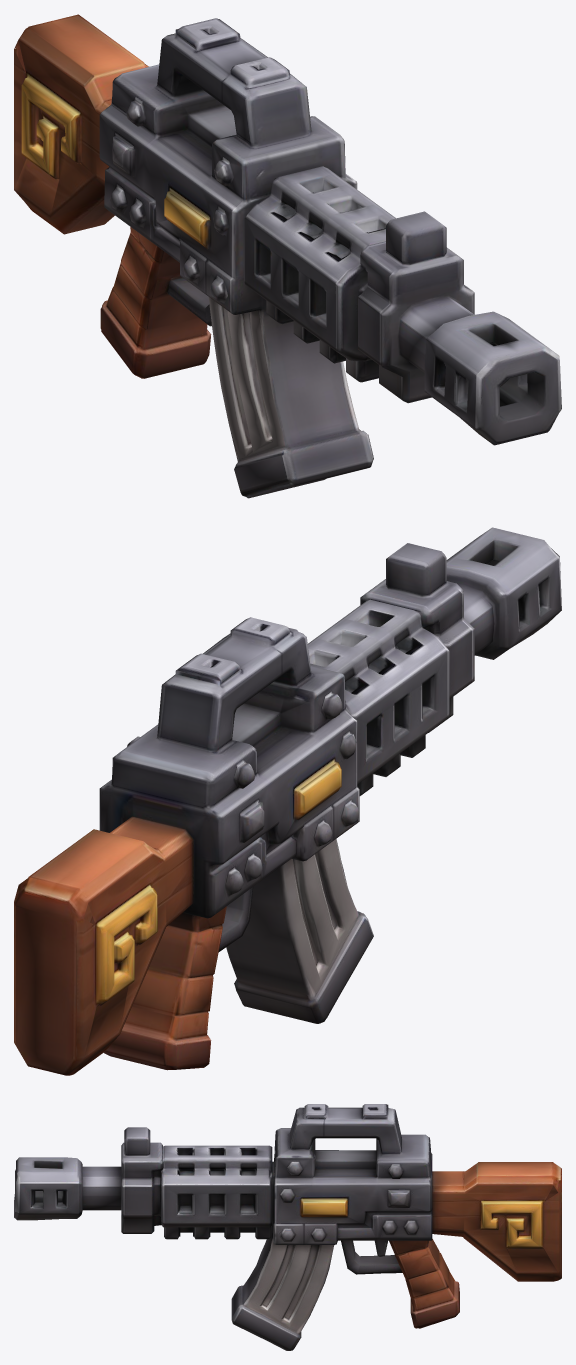
File: gun.glb
3 renders of one model, top to bottom at view 1: azimuth 30°, elevation 25°; view 2: azimuth 150°, elevation 25°; view 3: azimuth 270°, elevation 25°, orthographic. The views are drawn at different scales.
Visible parts, largest first — view 1: tripo_node_aaf3e0cf-0fa1-47d3-9711-c6831d31e8f0; view 2: tripo_node_aaf3e0cf-0fa1-47d3-9711-c6831d31e8f0; view 3: tripo_node_aaf3e0cf-0fa1-47d3-9711-c6831d31e8f0.
Boxes of the visible parts, x1,y1,x2,y2 form: tripo_node_aaf3e0cf-0fa1-47d3-9711-c6831d31e8f0: (14,14,561,498); tripo_node_aaf3e0cf-0fa1-47d3-9711-c6831d31e8f0: (14,527,561,1075); tripo_node_aaf3e0cf-0fa1-47d3-9711-c6831d31e8f0: (14,1104,561,1350).
Bounding box in the file's own units: 0.1742 × 0.4677 × 1.
Materials: 1 (1 with a texture image).
